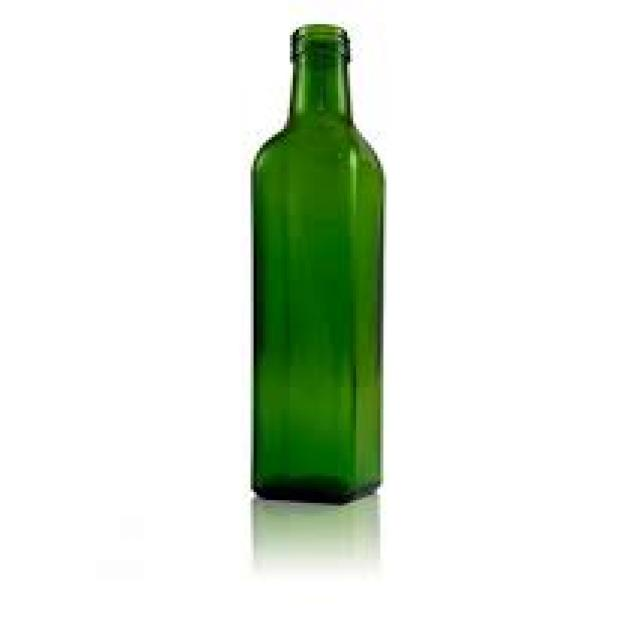Glass: (244, 22, 396, 507)
